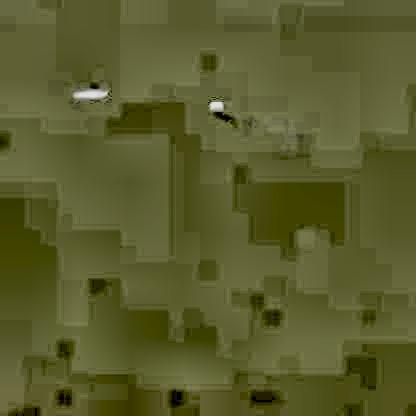golfball: (206, 97, 221, 112)
